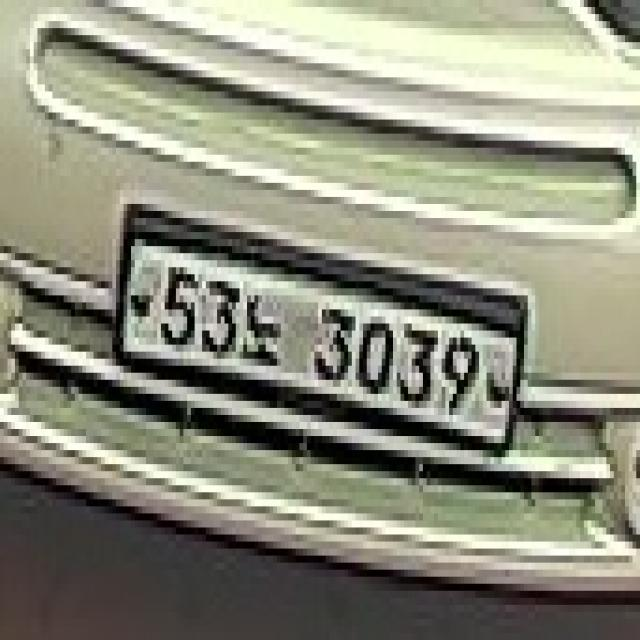0: (356, 309, 396, 401)
3: (396, 302, 442, 415), (318, 302, 352, 394), (202, 274, 236, 359)
5: (158, 260, 198, 345)
9: (434, 317, 483, 443)
license_plate: (120, 190, 531, 478)
no: (240, 281, 284, 366)
